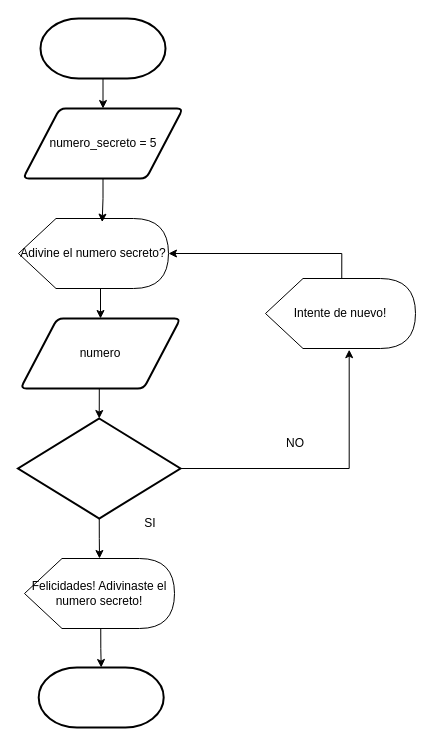
The diagram is 433 pixels wide and 745 high, and some of its shapes have lost their labels. The shapes that lost their labels are listed below. From the top down, each one's box as (x1, y1, x2, y2) in pixels, then its label:
(39, 17, 166, 79): INICIO
(16, 417, 181, 519): numero_secreto == numero
(37, 666, 164, 728): FIN
